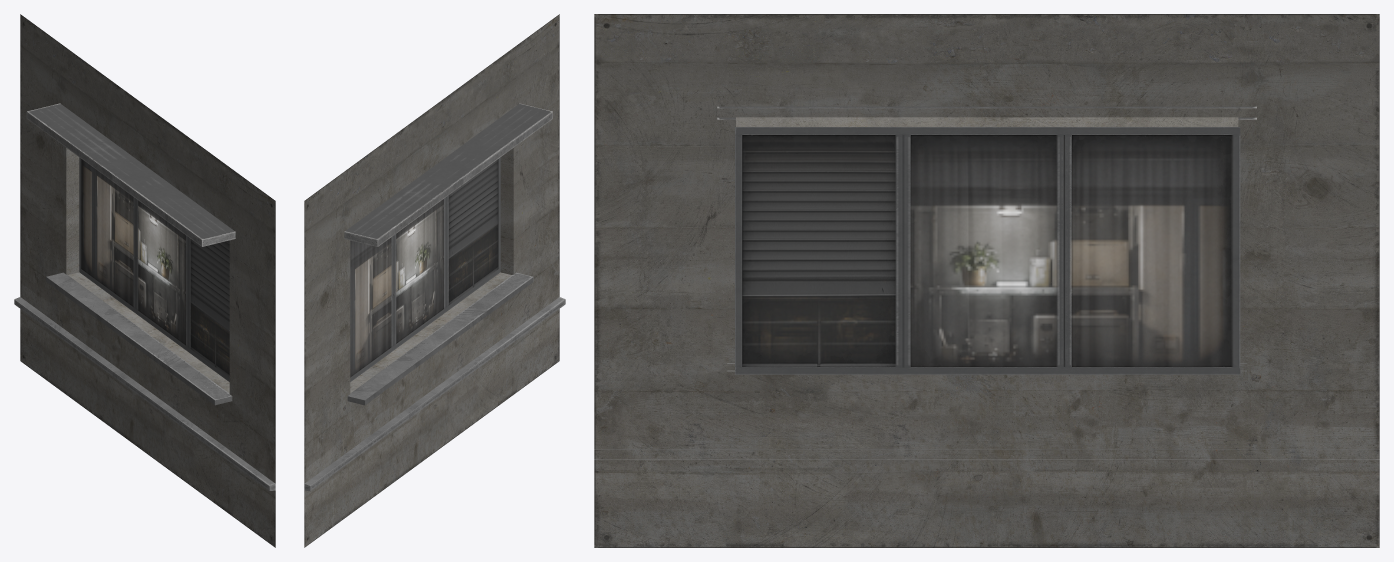
The model's file is CP_Windows_A_4x3m_01.fbx.
3 views of the same model, side by side, from view 1: azimuth 30°, elevation 25°; view 2: azimuth 150°, elevation 25°; view 3: azimuth 270°, elevation 25° (orthographic). The views are drawn at different scales.
Parts seen in each view (by area): view 1: CP_Windows_A_4x3m_01; view 2: CP_Windows_A_4x3m_01; view 3: CP_Windows_A_4x3m_01.
Boxes of the visible parts, bbox=[...] form: CP_Windows_A_4x3m_01: bbox=[14, 14, 275, 547]; CP_Windows_A_4x3m_01: bbox=[304, 14, 565, 547]; CP_Windows_A_4x3m_01: bbox=[594, 14, 1379, 547].
Bounding box in the file's own units: 42.26 × 300 × 400.
